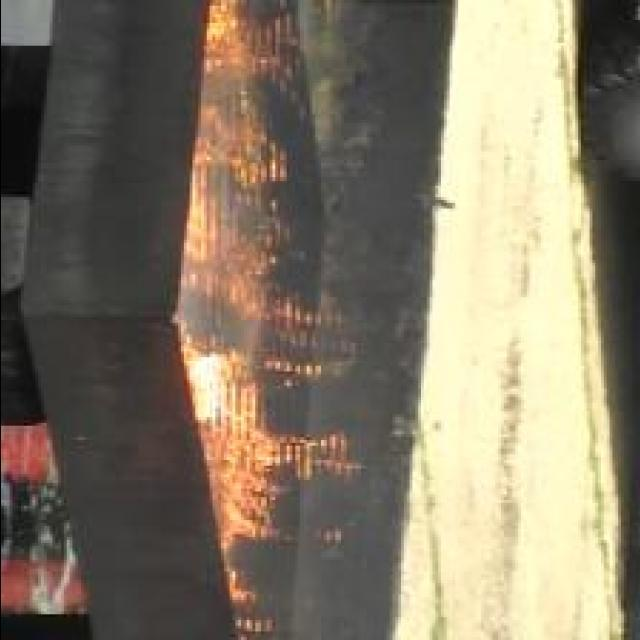Fire: (182, 0, 358, 640)
